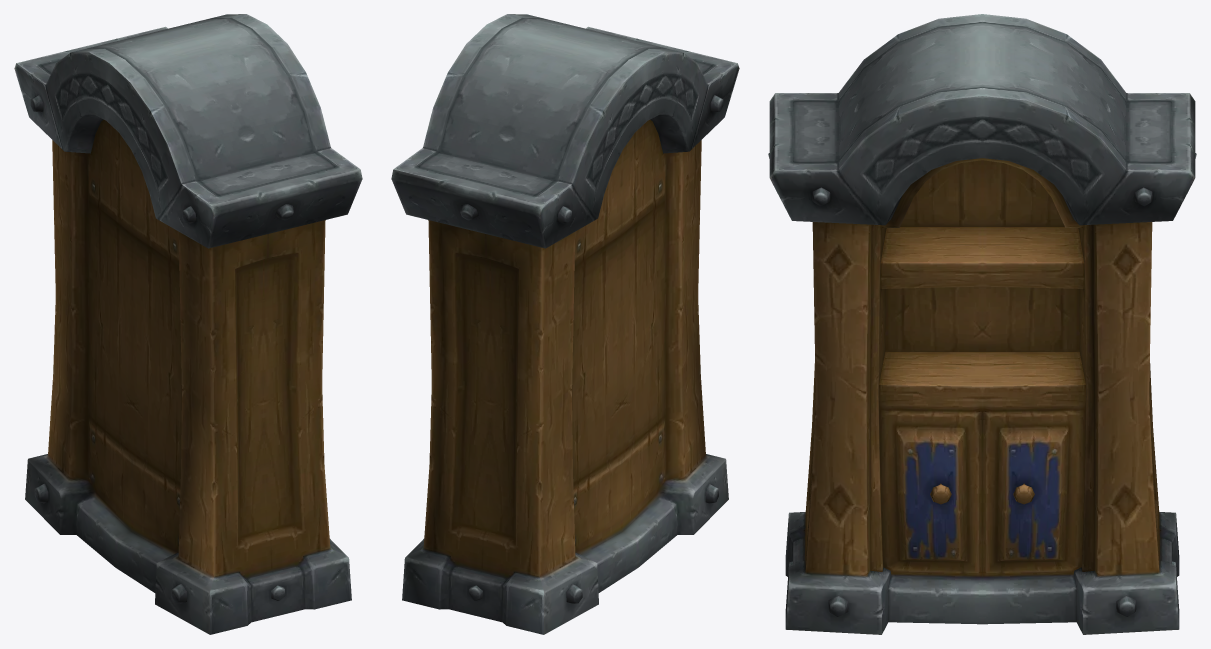
The picture shows the model from 3 angles, left to right: view 1: azimuth 30°, elevation 25°; view 2: azimuth 150°, elevation 25°; view 3: azimuth 270°, elevation 25°; orthographic projection. The views are drawn at different scales.
Bounding box in the file's own units: 1.32 × 3.85 × 2.78.
Materials: 1 (1 with a texture image).
